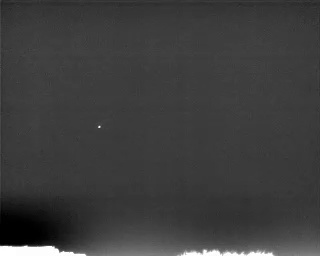BIRD: (96, 122, 103, 131)
